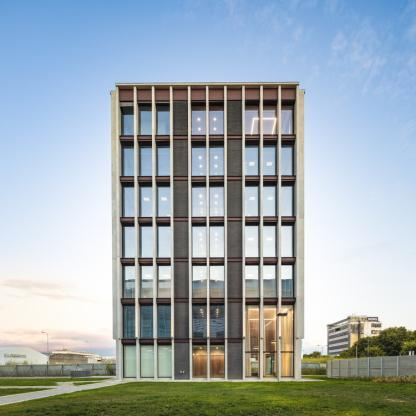Building Outline: (110, 82, 306, 382)
Facade: (111, 91, 302, 382)
Floor: (112, 180, 305, 219), (112, 221, 305, 259), (112, 139, 305, 177), (112, 262, 305, 299), (112, 302, 245, 339)
Floor Slab: (112, 137, 305, 140), (112, 177, 305, 180), (112, 219, 305, 222), (112, 259, 305, 262), (112, 299, 305, 302), (116, 340, 245, 343)
Glass Wall: (281, 305, 295, 352), (263, 305, 277, 352), (245, 305, 259, 352), (210, 345, 225, 378), (192, 345, 207, 378), (209, 265, 224, 298), (192, 265, 207, 298), (210, 305, 225, 338), (192, 305, 207, 338), (158, 344, 172, 378), (140, 344, 154, 378), (209, 186, 224, 217), (192, 186, 207, 217), (209, 227, 224, 258), (192, 227, 207, 258), (209, 105, 224, 135), (191, 105, 206, 135), (209, 146, 224, 176), (191, 146, 206, 176), (157, 266, 171, 298), (157, 306, 171, 338), (281, 265, 295, 297), (245, 265, 259, 297), (263, 265, 277, 297), (123, 344, 136, 378), (139, 187, 153, 218), (139, 227, 153, 258), (281, 226, 295, 257), (245, 226, 259, 257), (263, 226, 277, 257), (156, 105, 170, 135), (281, 145, 295, 175), (245, 145, 259, 175), (263, 145, 277, 175), (281, 186, 295, 216), (245, 186, 259, 216), (263, 186, 277, 216), (140, 266, 153, 298), (123, 306, 136, 338), (158, 187, 171, 218), (158, 227, 171, 258), (281, 106, 295, 134), (245, 106, 259, 134), (263, 106, 277, 134), (139, 105, 152, 135), (122, 146, 135, 176), (157, 146, 170, 176), (139, 146, 152, 176), (123, 266, 135, 298), (141, 306, 153, 338), (121, 106, 134, 135), (122, 187, 134, 218), (122, 227, 134, 258), (281, 353, 295, 377), (245, 353, 259, 377), (263, 353, 277, 377)
Ground Floor: (116, 342, 245, 382), (245, 302, 302, 382)
Top Floor: (112, 91, 305, 136)
